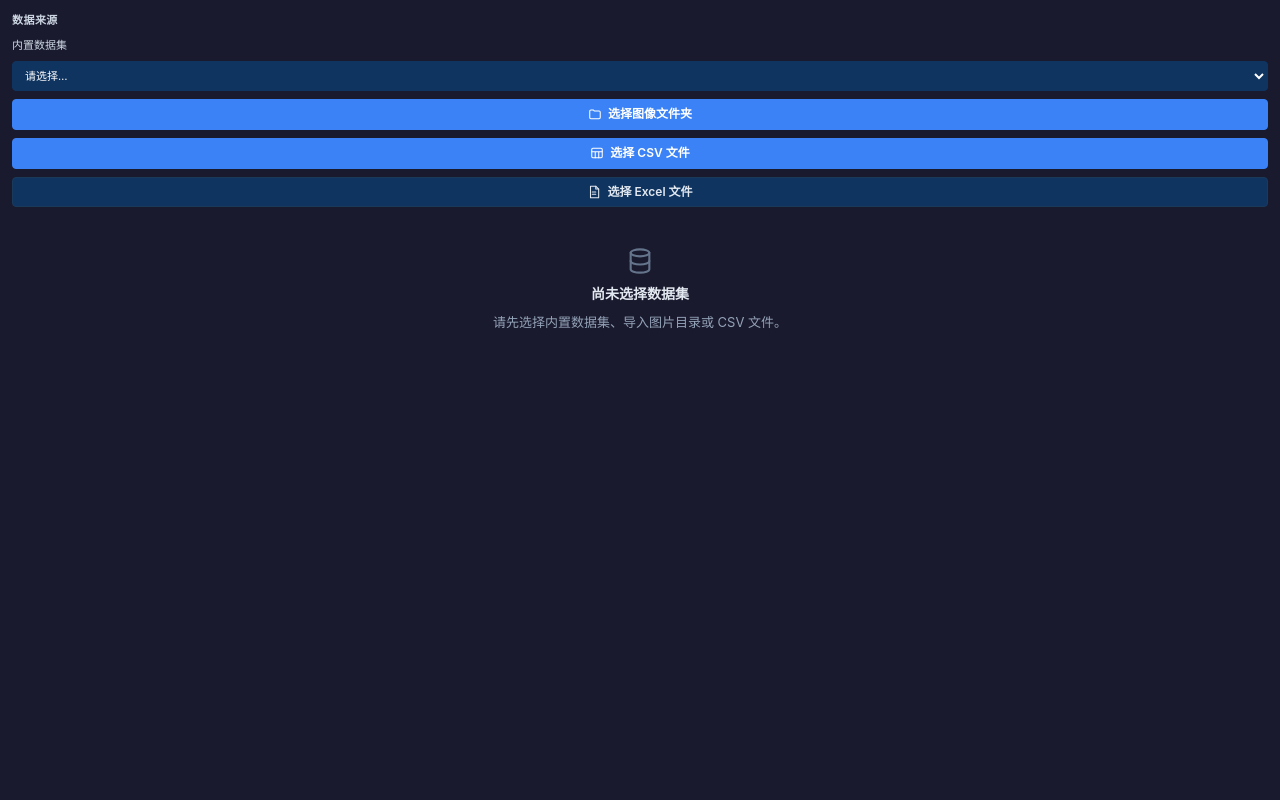
Test case: 数据集工作台：网络适配确认 › 导入图片后按首图尺寸触发适配确认
Click the button "选择图像文件夹" at (640,114), box [12,99,1268,130]
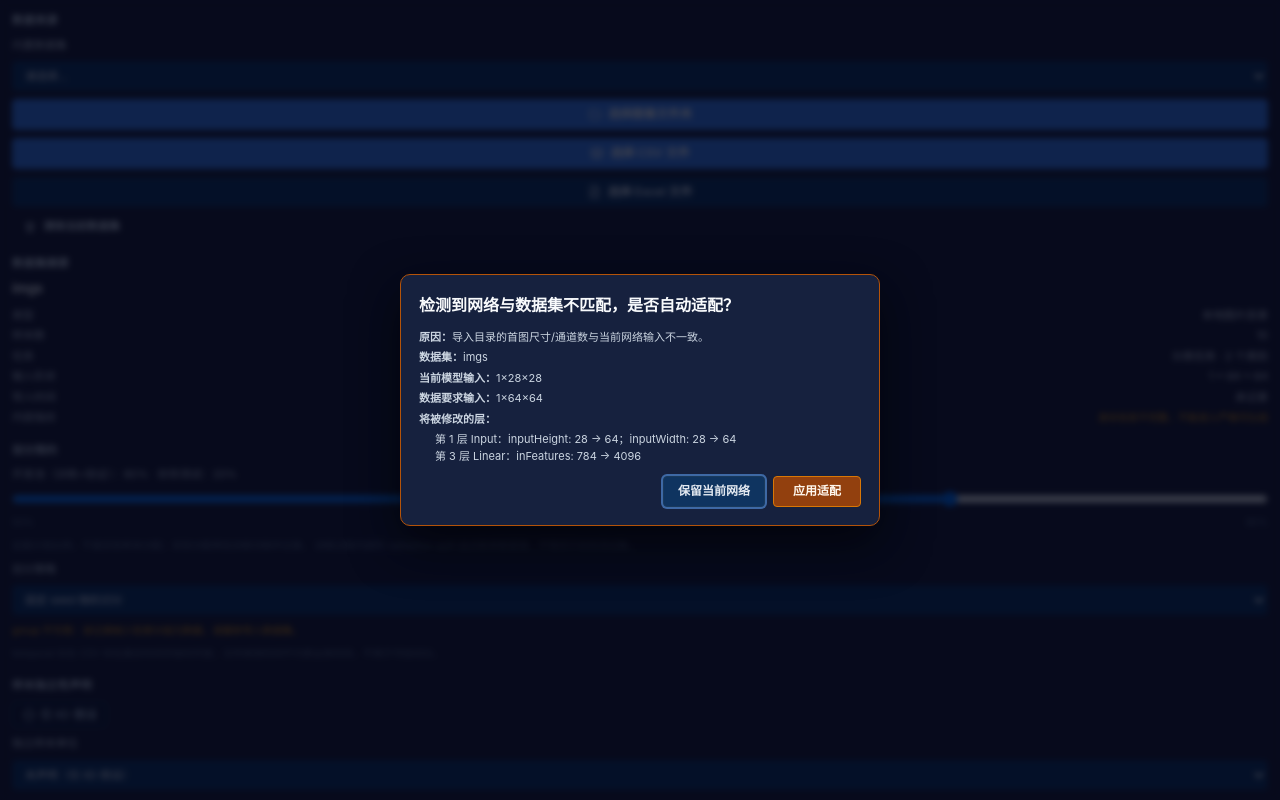
Result: the dialog is shown at [400,274,880,526]
Result: the text "数据要求输入：1×64×64" is shown at [419,391,543,405]
